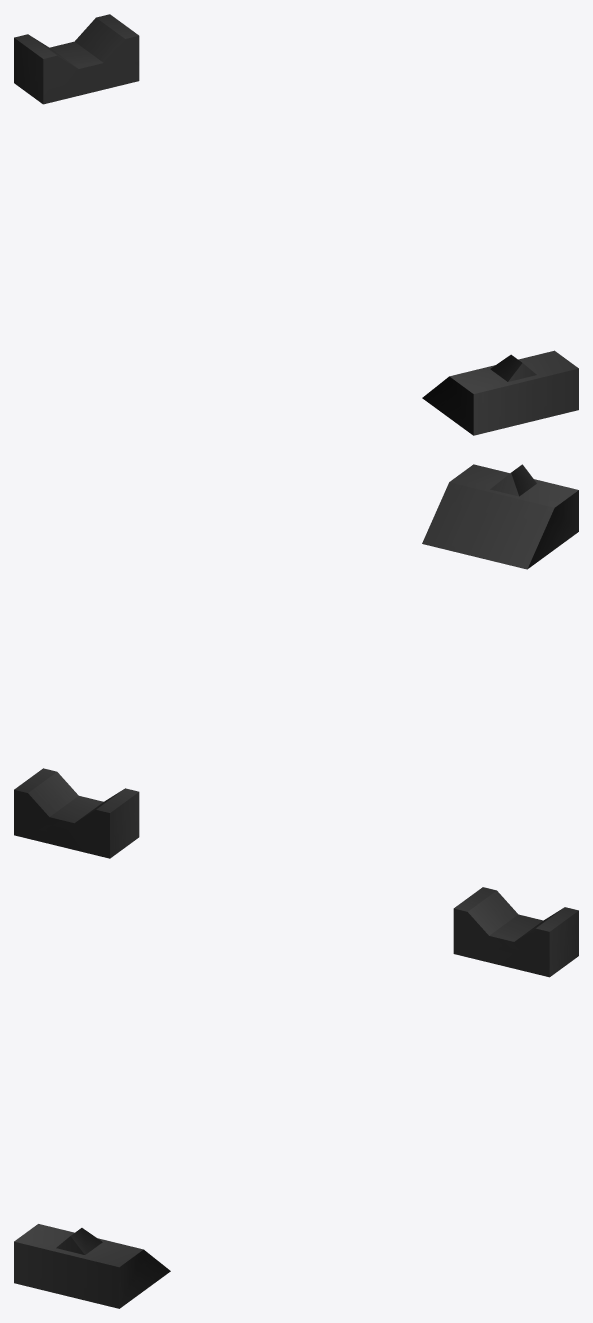
Rendered from SMGIronSight_mesh.fbx.
3 renders of one model, top to bottom at view 1: azimuth 30°, elevation 25°; view 2: azimuth 150°, elevation 25°; view 3: azimuth 330°, elevation 25°, orthographic.
Parts seen in each view (by area): view 1: SMGIronSight_mesh; view 2: SMGIronSight_mesh; view 3: SMGIronSight_mesh.
Boxes of the visible parts, <box> form: SMGIronSight_mesh: <box>14,14,578,435</box>; SMGIronSight_mesh: <box>14,464,578,858</box>; SMGIronSight_mesh: <box>14,887,578,1308</box>.
Size of the model in its own units: 2.45 by 1.28 by 18.72.
